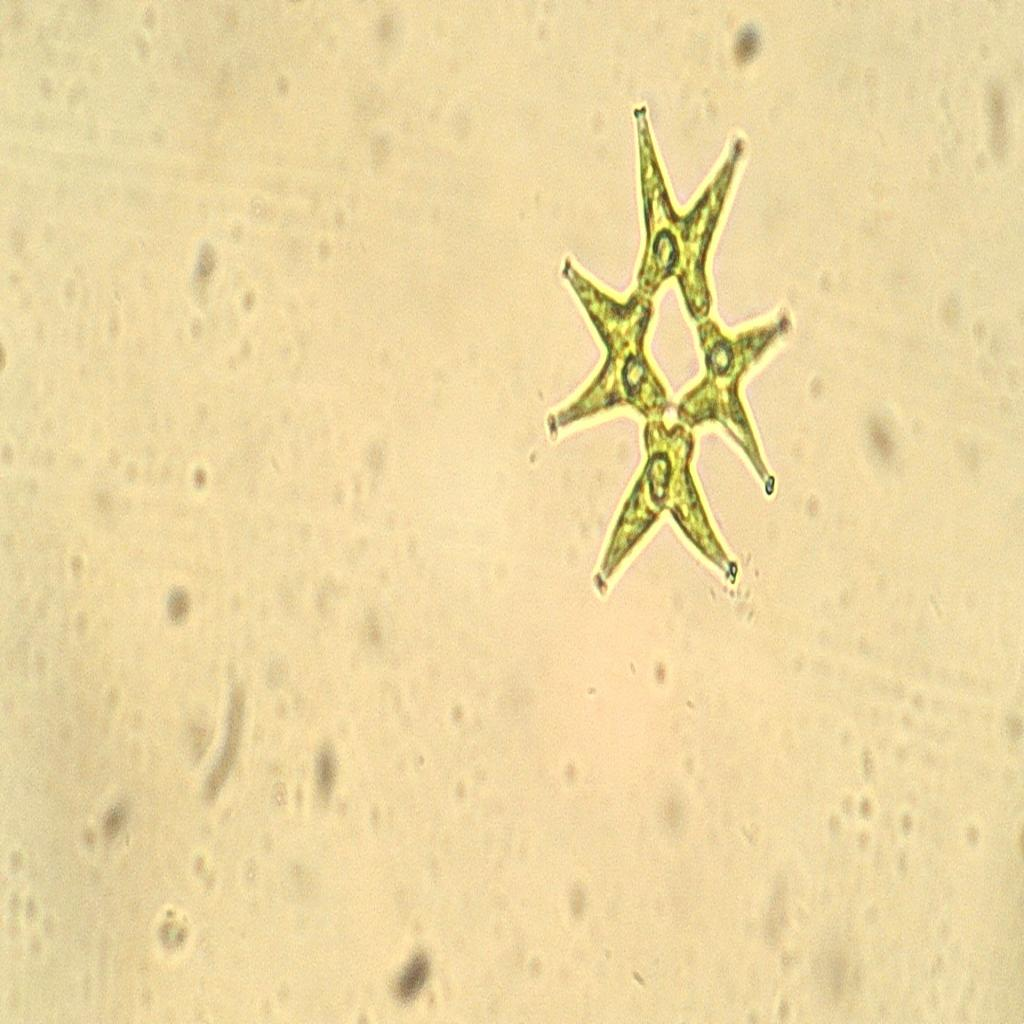Pediastrum_CF: (545, 75, 812, 621)
